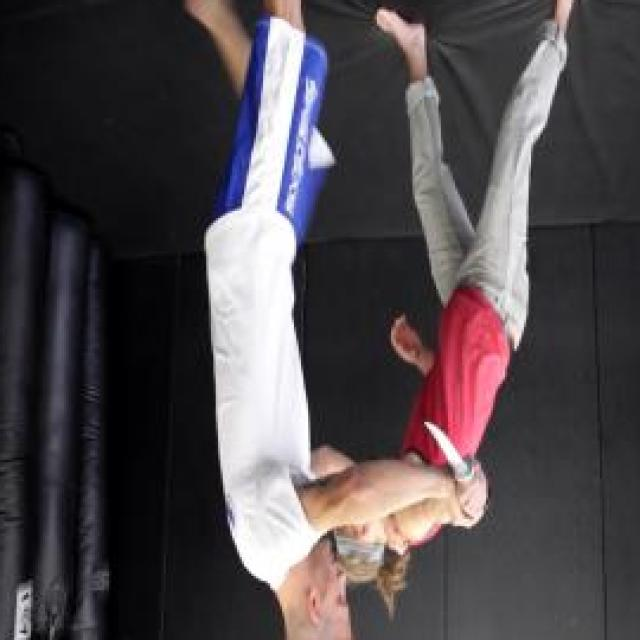knife: (418, 410, 498, 522)
